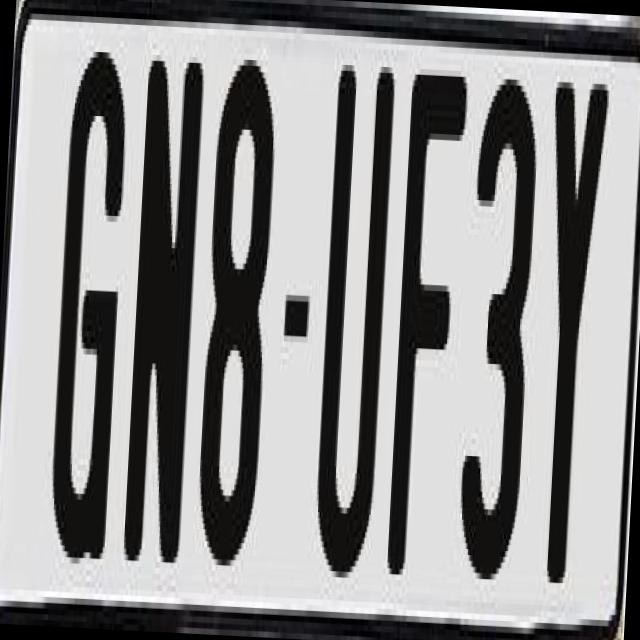3: (454, 66, 544, 587)
8: (193, 47, 278, 555)
F: (386, 62, 470, 594)
G: (47, 50, 131, 582)
N: (121, 43, 208, 569)
U: (308, 52, 392, 578)
Y: (526, 76, 614, 590)
